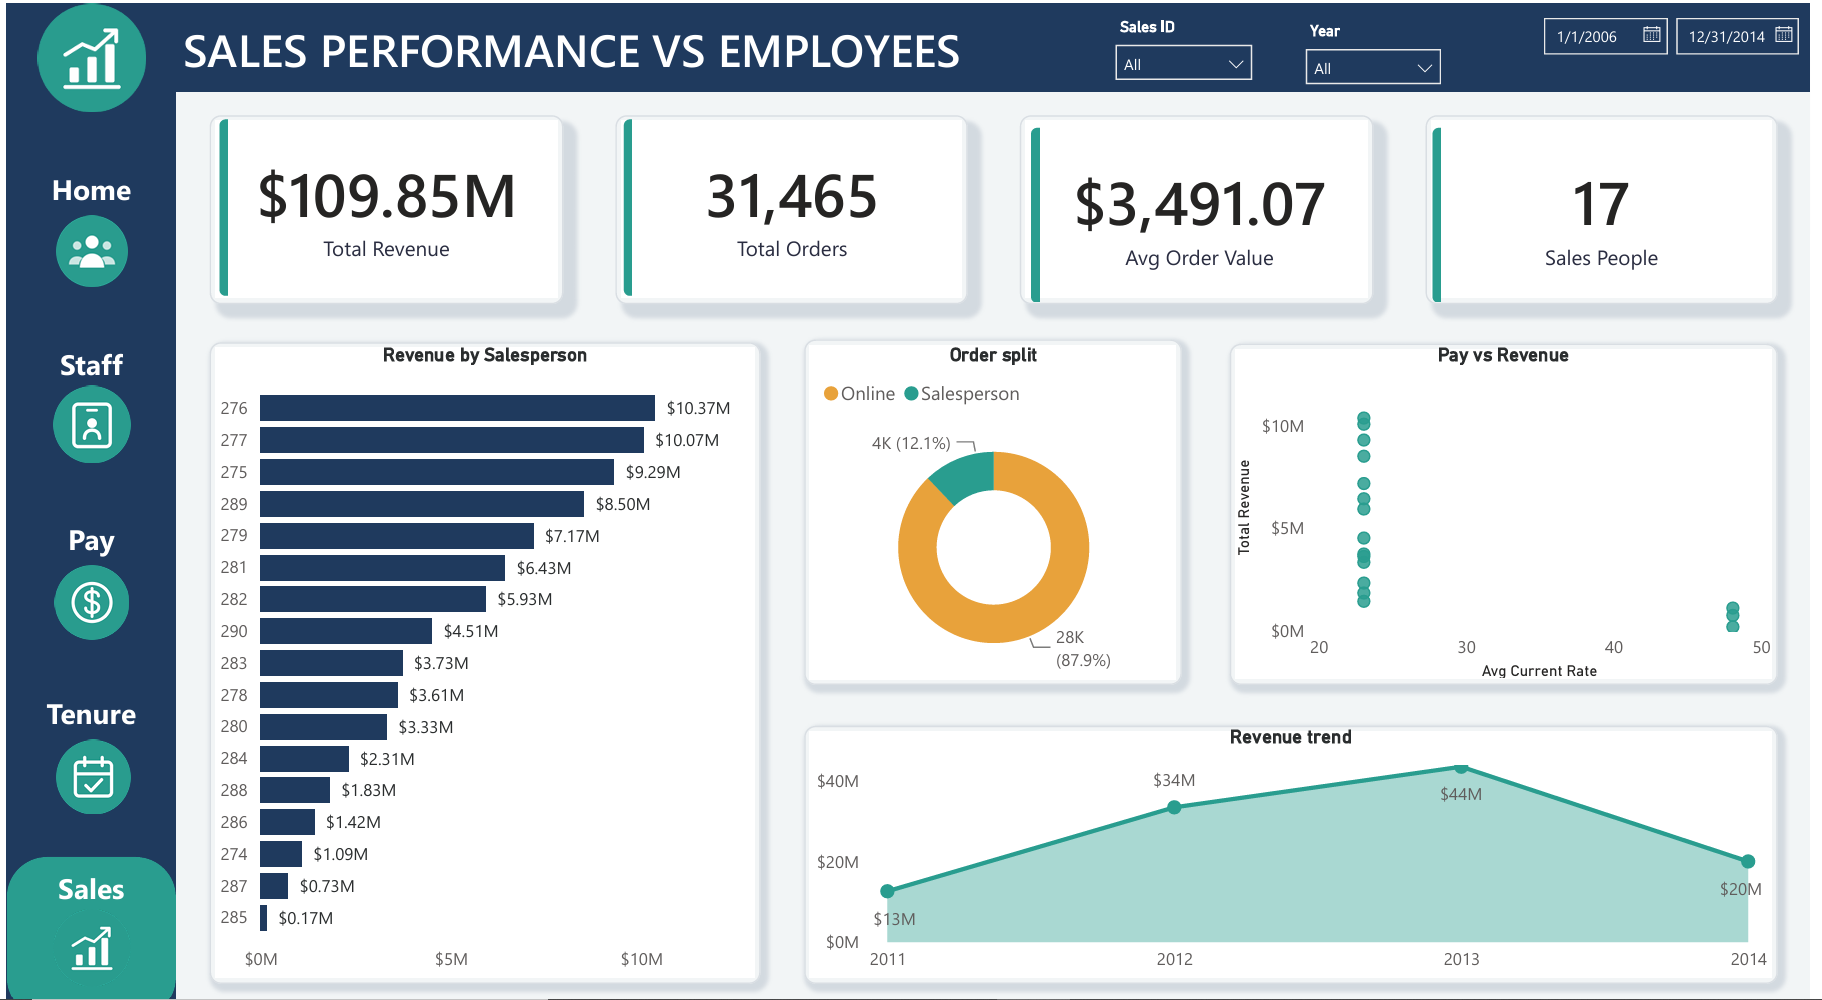

Layout of this report page (visuals, bound fields, positions):
{"tool":"powerbi","page":{"name":"Sales ","canvas":[1280,720],"ordinal":4},"visuals":[{"type":"shape","box":[0,0,1279.5,719.2],"z":0},{"type":"shape","box":[0,0,1280,62.7],"z":1000},{"type":"shape","box":[0,0,119.5,720.2],"z":2000},{"type":"shape","box":[431.8,78.8,250.5,134.3],"z":3000},{"type":"shape","box":[143.6,78.8,251.3,134.2],"z":4000},{"type":"shape","box":[719.1,78.9,251.3,134.2],"z":5000},{"type":"shape","box":[1007.3,78.9,249.5,134.2],"z":6000},{"type":"shape","box":[143.6,240,391.2,455.4],"z":7000},{"type":"cardVisual","fields":{"Data":["DATE.Total Orders"]},"box":[432.8,77.5,249.5,134.2],"z":8000},{"type":"cardVisual","fields":{"Data":["DATE.Total Revenue"]},"box":[145.5,77.5,247.6,134.2],"z":9000},{"type":"cardVisual","fields":{"Data":["Sales SalesOrderHeader.Avg Order Value"]},"box":[721.9,83.2,249.5,134.2],"z":10000},{"type":"clusteredBarChart","title":"Revenue by Salesperson","fields":{"Category":["Sales SalesPerson.BusinessEntityID"],"Y":["DATE.Total Revenue"]},"box":[143.8,240.8,390.7,454.3],"z":11000},{"type":"shape","box":[867.6,240.8,389.2,242.3],"z":12000},{"type":"shape","box":[566.3,237.7,268,245.3],"z":13000},{"type":"shape","box":[566.3,511.8,690.5,183.2],"z":14000},{"type":"scatterChart","title":"Pay vs Revenue","fields":{"Category":["Sales SalesPerson.BusinessEntityID"],"Y":["DATE.Total Revenue"],"X":["DATE.Avg Current Rate"]},"box":[867.6,240.8,389.2,242.3],"z":15000},{"type":"lineChart","title":"Revenue trend","fields":{"Y":["DATE.Total Revenue"],"Category":["DATE.Month","DATE.Year"]},"box":[569.3,511.8,684.4,183.2],"z":16000},{"type":"donutChart","title":"Order split","fields":{"Category":["Sales SalesOrderHeader.Order Channel"],"Y":["DATE.Total Orders"]},"box":[573.9,240.8,252.9,245.3],"z":17000},{"type":"cardVisual","fields":{"Data":["Sales SalesOrderHeader.Sales People"]},"box":[1007.3,83.2,249.5,134.2],"z":18000},{"type":"slicer","title":"Department ","fields":{"Values":["Sales SalesPerson.BusinessEntityID"]},"box":[777.3,5.2,116.2,56.8],"z":19000},{"type":"slicer","title":"Department ","fields":{"Values":["DATE.Year"]},"box":[911.6,7.7,116.2,56.8],"z":20000},{"type":"slicer","fields":{"Values":["DATE.Date"]},"box":[1078.1,0,201.4,43.9],"z":21000},{"type":"textbox","box":[119.6,4.5,625.4,57.5],"z":22000},{"type":"pageNavigator","box":[0,109,119.6,610.2],"z":23000},{"type":"image","box":[0,271,119.6,54.5],"z":24000},{"type":"image","box":[6.1,398.2,107.5,53],"z":25000},{"type":"image","box":[1.5,522.4,119.6,53],"z":26000},{"type":"image","box":[0,0,119.6,77.2],"z":27000},{"type":"image","box":[0,642,119.6,54.5],"z":28000},{"type":"image","box":[12.1,149.9,96.9,51.5],"z":29000}]}

Visuals, with their boxes in screenshot pixels (x1, y1, x2, y2), scaled from the page's 1280x720 canvas onto the 1822x1000 screenshot:
shape: 0 0 1821 999
shape: 0 0 1821 87
shape: 0 0 170 999
shape: 615 109 971 296
shape: 204 109 562 296
shape: 1024 110 1381 296
shape: 1434 110 1789 296
shape: 204 333 761 966
cardVisual - DATE.Total Orders: 616 108 971 294
cardVisual - DATE.Total Revenue: 207 108 560 294
cardVisual - Sales SalesOrderHeader.Avg Order Value: 1028 116 1383 302
"Revenue by Salesperson" clusteredBarChart: 205 334 761 965
shape: 1235 334 1789 671
shape: 806 330 1188 671
shape: 806 711 1789 965
"Pay vs Revenue" scatterChart: 1235 334 1789 671
"Revenue trend" lineChart: 810 711 1785 965
"Order split" donutChart: 817 334 1177 675
cardVisual - Sales SalesOrderHeader.Sales People: 1434 116 1789 302
"Department " slicer: 1106 7 1272 86
"Department " slicer: 1298 11 1463 90
slicer - DATE.Date: 1535 0 1821 61
textbox: 170 6 1060 86
pageNavigator: 0 151 170 999
image: 0 376 170 452
image: 9 553 162 627
image: 2 726 172 799
image: 0 0 170 107
image: 0 892 170 967
image: 17 208 155 280
